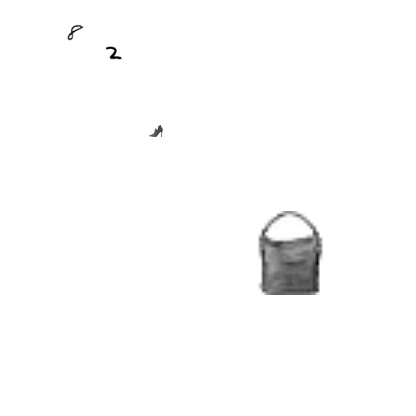2: (102, 42, 124, 64)
8: (63, 20, 85, 42)
Ankle_boot: (149, 124, 163, 138)
Bag: (247, 211, 331, 295)
